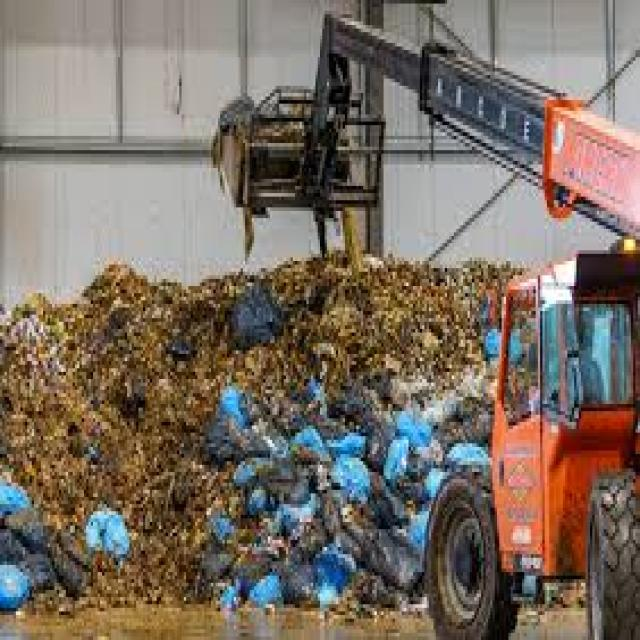Organik: (9, 289, 417, 628), (99, 274, 485, 448)
